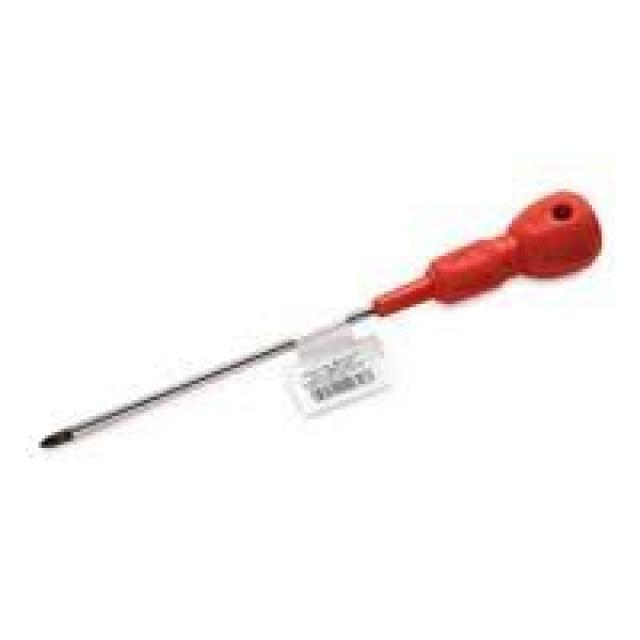screwdriver: (32, 188, 611, 458)
